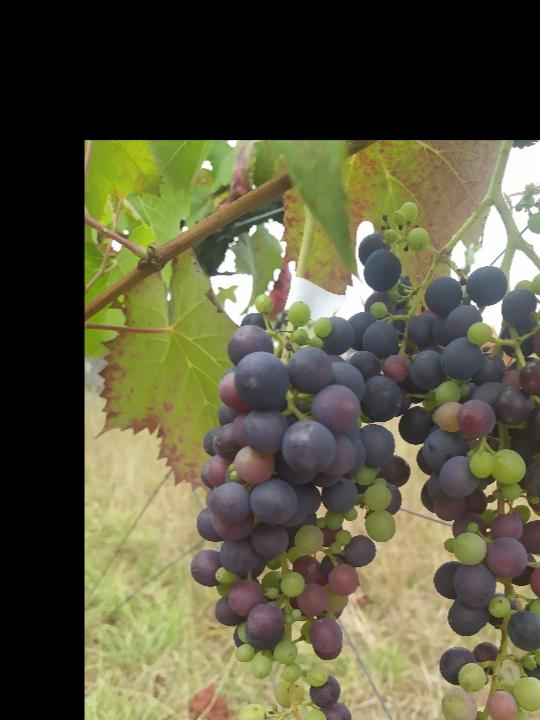grape: (188, 296, 414, 720), (360, 191, 540, 720)
